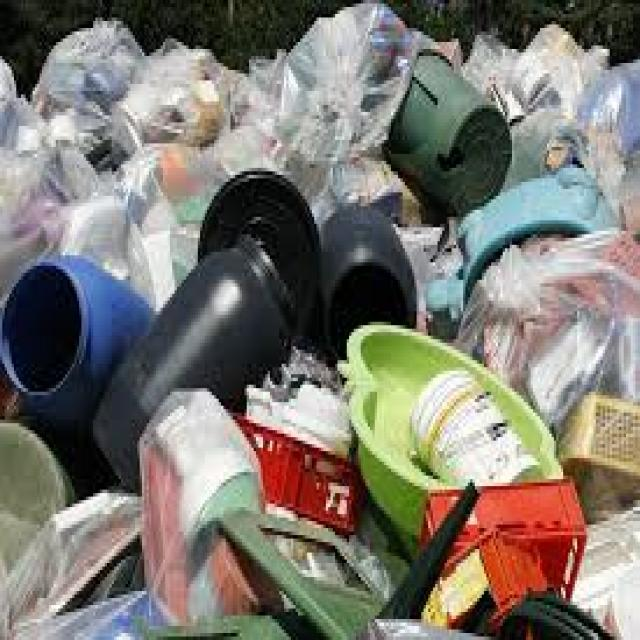heap: (8, 64, 640, 599)
